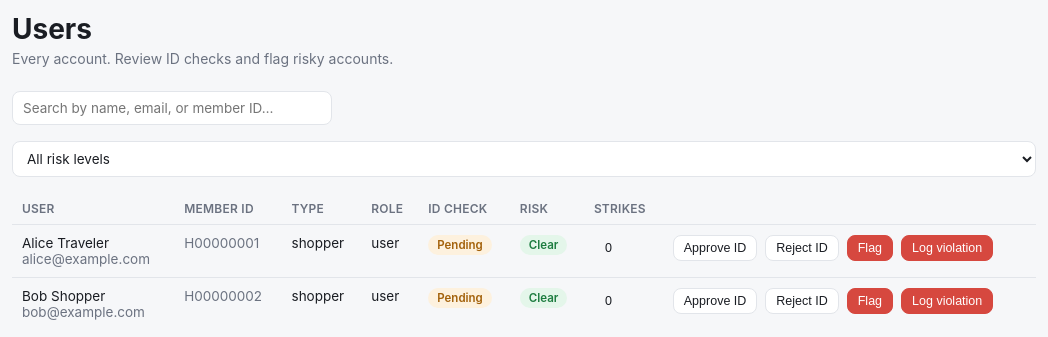
UsersPage › filters the table by name, email, or member ID
expect the text "Alice Traveler" is shown: met, box [22, 235, 109, 251]
expect the text "Bob Shopper" is shown: met, box [22, 288, 105, 304]
Type "alice" into the field with placeholder "Search by name, email, or member ID…" at (172, 108), box [12, 91, 332, 125]
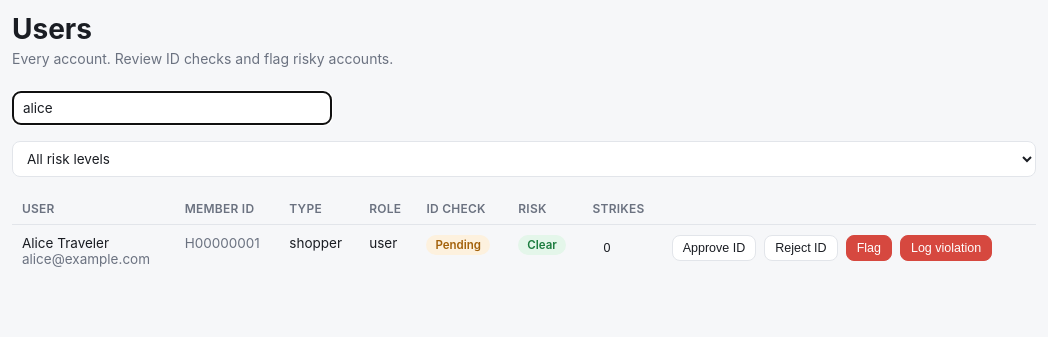
expect the text "Alice Traveler" is shown: met, box [22, 235, 109, 251]
expect the text "Bob Shopper" is gone: met
